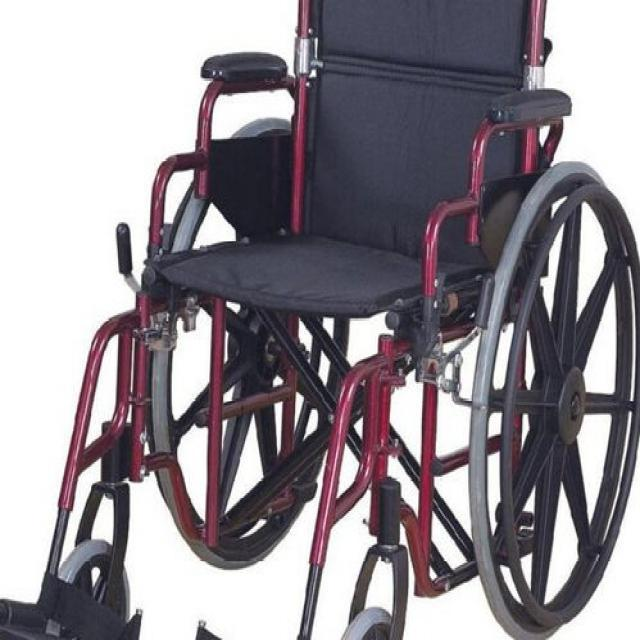wheelchair: (0, 50, 638, 639)
